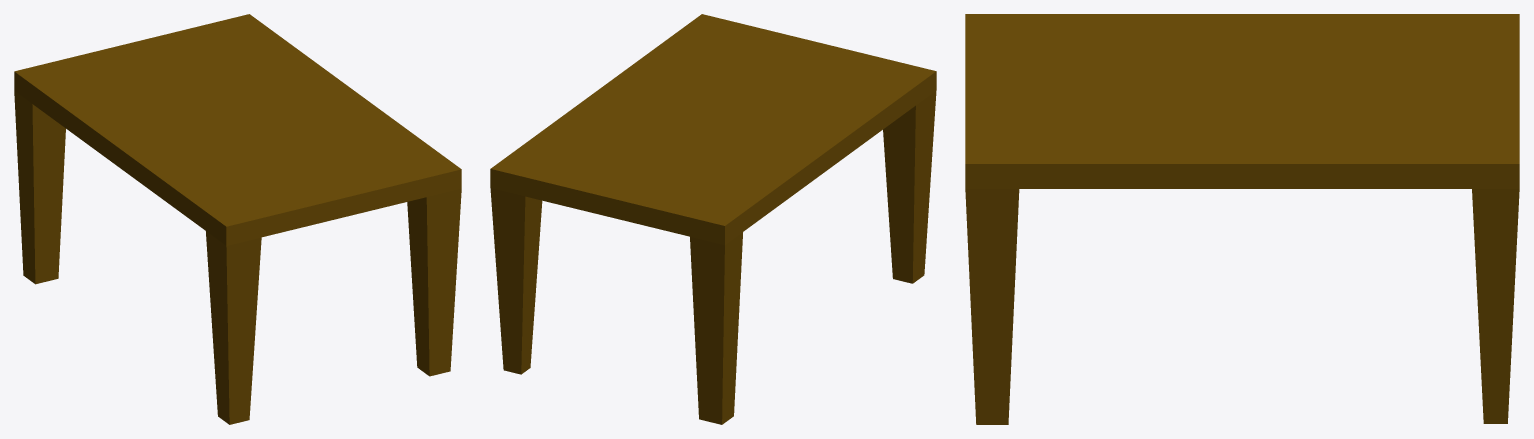
The model's file is table.fbx.
3 views of the same model, side by side, from view 1: azimuth 30°, elevation 25°; view 2: azimuth 150°, elevation 25°; view 3: azimuth 270°, elevation 25° (orthographic). The views are drawn at different scales.
Parts seen in each view (by area): view 1: Table; view 2: Table; view 3: Table.
Boxes of the visible parts, x1,y1,x2,y2 form: Table: (14,14,461,424); Table: (490,14,936,424); Table: (965,14,1519,424).
Bounding box in the file's own units: 260 × 215 × 406.
